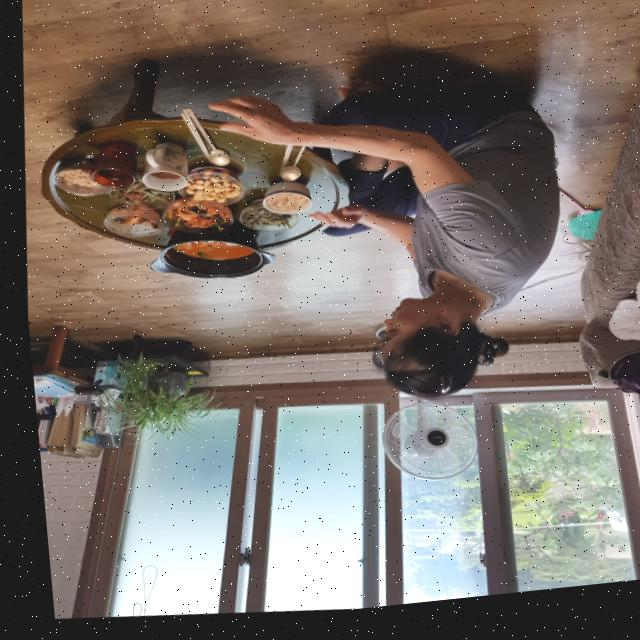eating-person: (148, 42, 584, 435)
